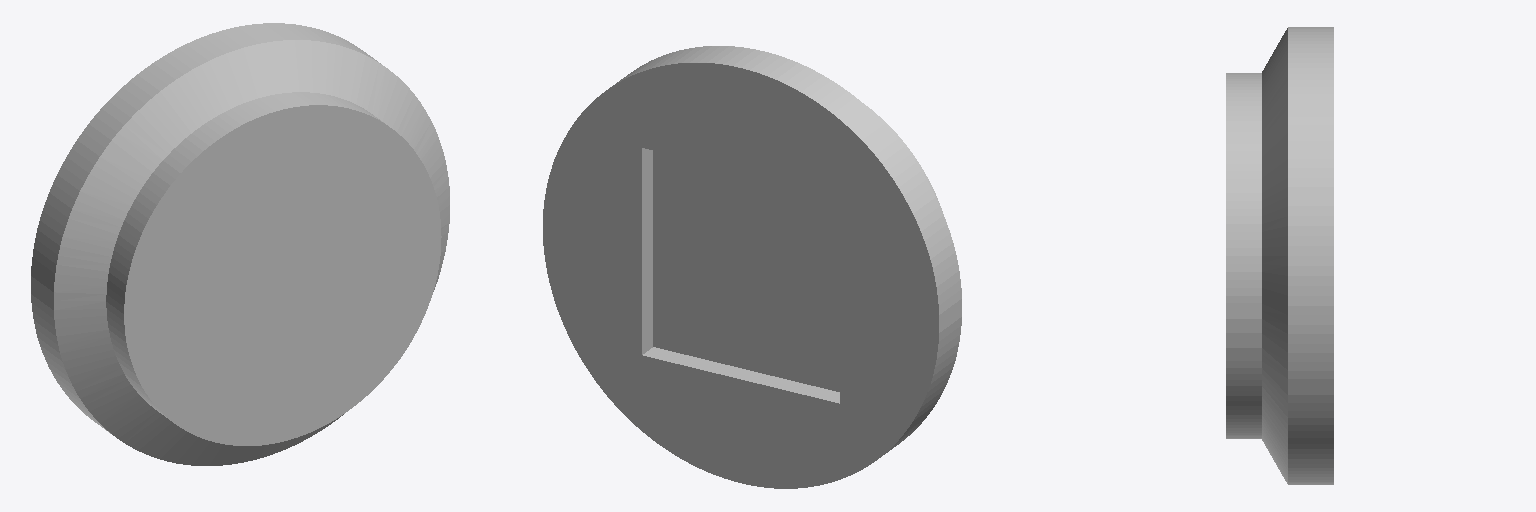
File: Flange.obj
3 renders of one model, left to right at view 1: azimuth 30°, elevation 25°; view 2: azimuth 150°, elevation 25°; view 3: azimuth 270°, elevation 25°, orthographic.
Visible parts, largest first — view 1: Flange; view 2: Flange; view 3: Flange.
Part boxes in pixels (bbox=[...]): Flange: bbox=[31, 23, 449, 465]; Flange: bbox=[543, 46, 961, 488]; Flange: bbox=[1226, 27, 1333, 484].
Bounding box in the file's own units: 0.2 × 0.2 × 0.047.